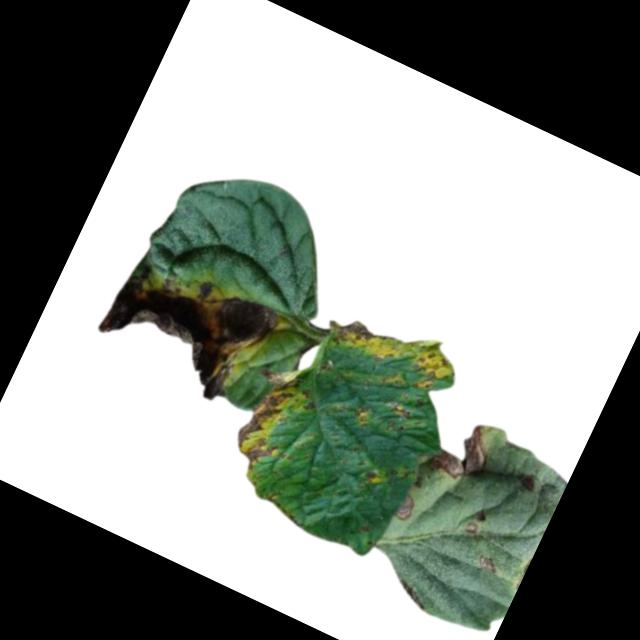Early_blight: (88, 245, 283, 416), (226, 360, 316, 480), (425, 412, 502, 491), (321, 310, 389, 363), (404, 344, 452, 397), (394, 494, 419, 524), (473, 553, 501, 577), (362, 468, 380, 488), (462, 521, 480, 539)
